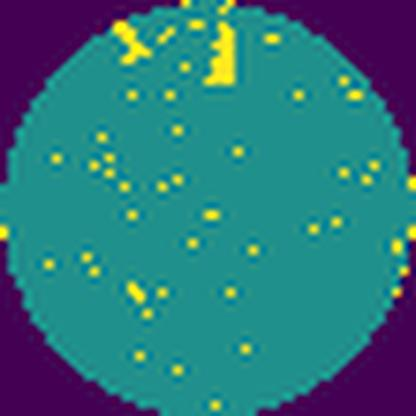Loc: (199, 19, 237, 88), (114, 23, 152, 66)
